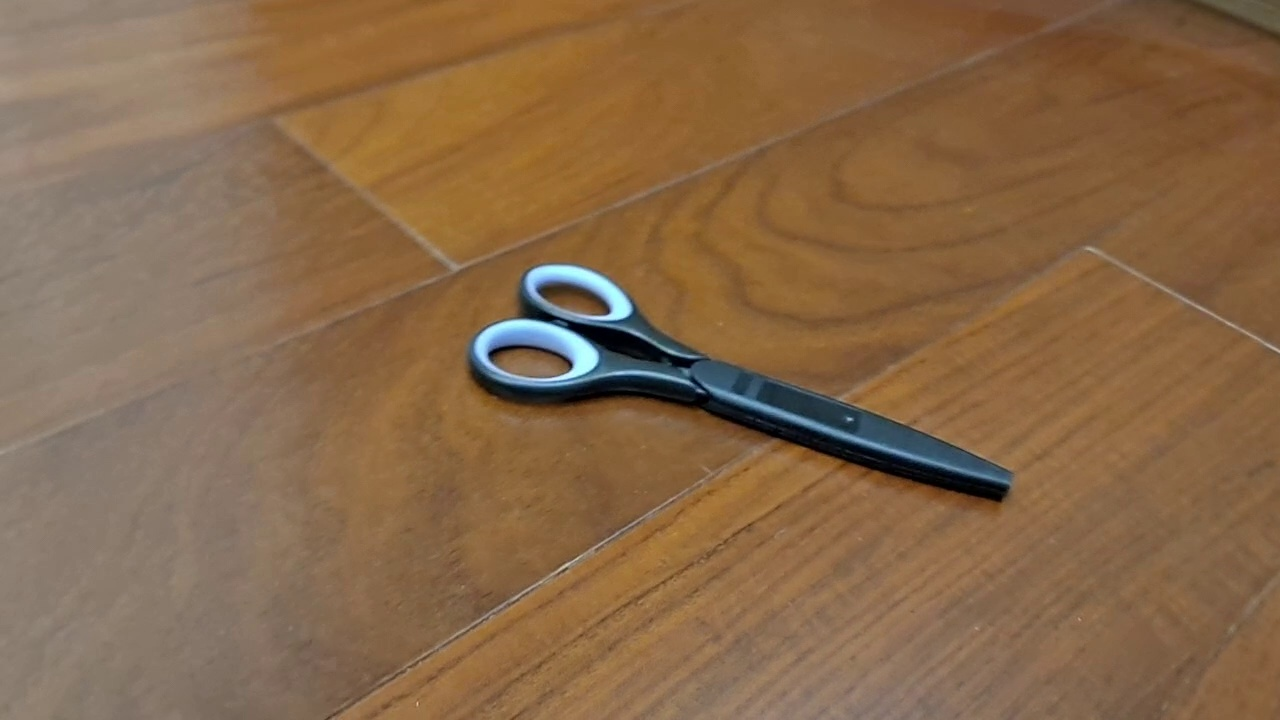scissors: (466, 261, 1016, 505)
